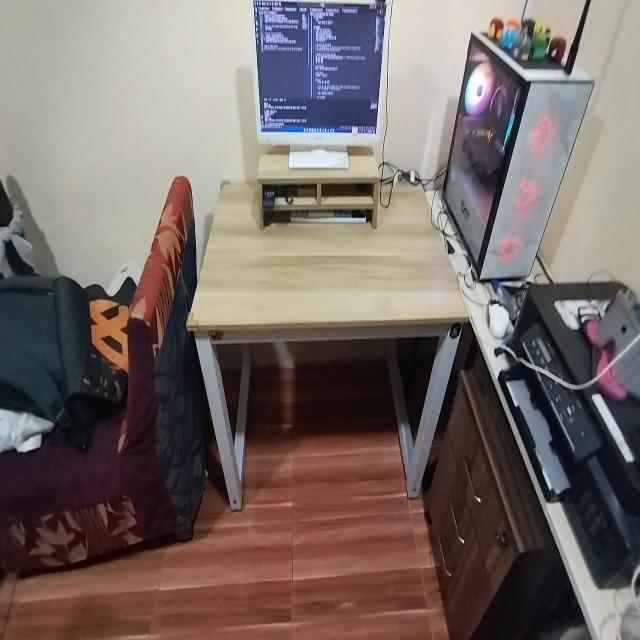table: (183, 155, 466, 492)
